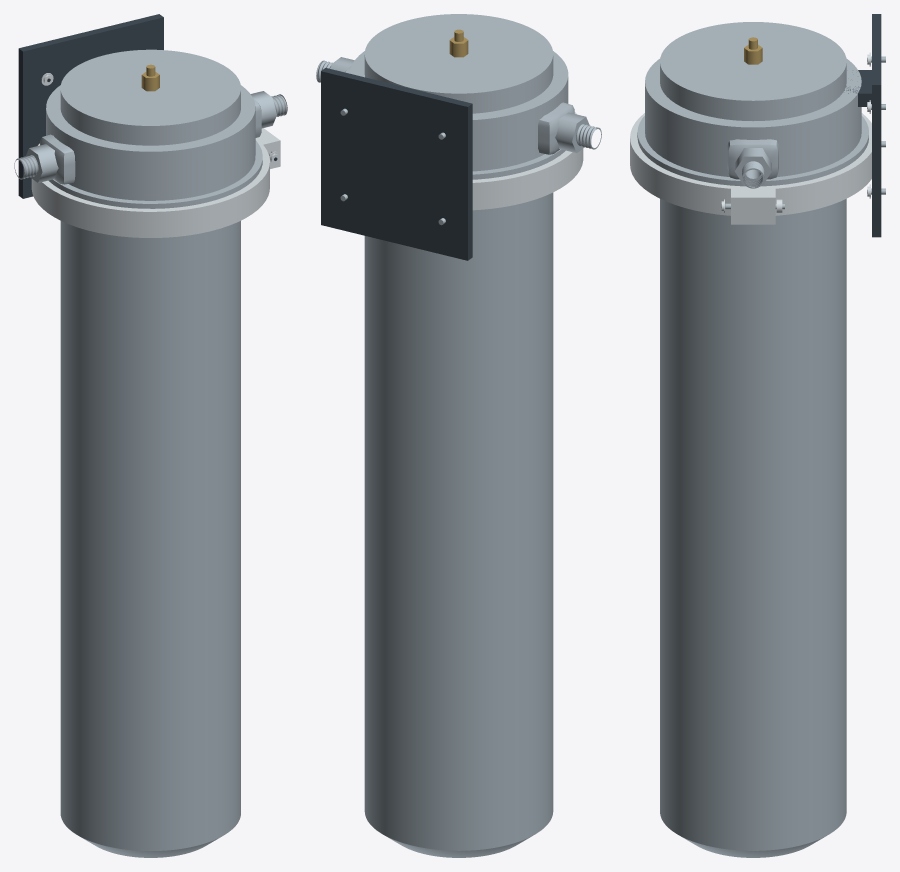
Rendered from water-filter.glb.
3 views of the same model, side by side, from view 1: azimuth 30°, elevation 25°; view 2: azimuth 150°, elevation 25°; view 3: azimuth 270°, elevation 25° (orthographic). The views are drawn at different scales.
Visible parts, largest first — view 1: Cốc lọc tháo xuống, Thân đầu lọc, Đai, Giá bắt; view 2: Cốc lọc tháo xuống, Giá bắt, Thân đầu lọc, Đai; view 3: Cốc lọc tháo xuống, Thân đầu lọc, Đai, Giá bắt.
Part boxes in pixels (<box>): Cốc lọc tháo xuống: <box>60,221,240,857</box>; Thân đầu lọc: <box>25,49,276,208</box>; Đai: <box>31,128,280,237</box>; Giá bắt: <box>18,14,163,198</box>; Cốc lọc tháo xuống: <box>364,192,553,857</box>; Giá bắt: <box>321,68,472,260</box>; Thân đầu lọc: <box>330,14,589,179</box>; Đai: <box>472,112,583,210</box>; Cốc lọc tháo xuống: <box>660,199,846,857</box>; Thân đầu lọc: <box>637,22,868,186</box>; Đai: <box>630,113,871,224</box>; Giá bắt: <box>844,14,885,237</box>.
Size of the model in its own units: 1.68 by 4.8 by 1.37.
